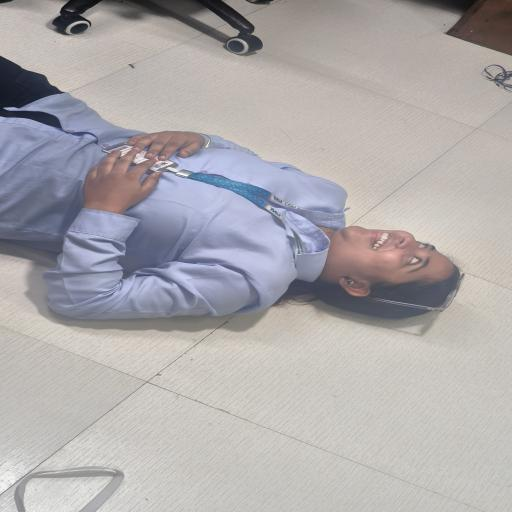survivor: (0, 55, 465, 321)
